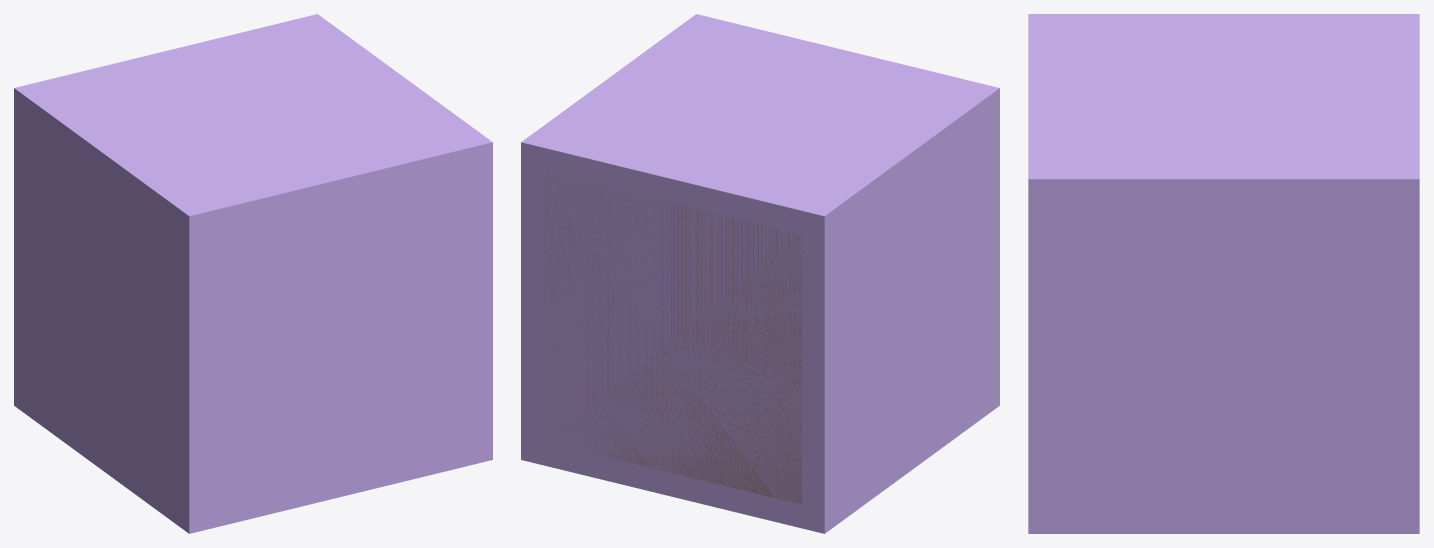
File: 63_violet_star.glb
3 views of the same model, side by side, from view 1: azimuth 30°, elevation 25°; view 2: azimuth 150°, elevation 25°; view 3: azimuth 270°, elevation 25° (orthographic). The views are drawn at different scales.
Visible parts, largest first — view 1: Core; view 2: Core, Soil; view 3: Core.
Boxes of the visible parts, x1=… form: Core: x1=14, y1=14, x2=492, y2=533; Core: x1=521, y1=14, x2=999, y2=533; Soil: x1=544, y1=173, x2=801, y2=503; Core: x1=1028, y1=14, x2=1419, y2=533.
Bounding box in the file's own units: 1 × 1 × 1.
